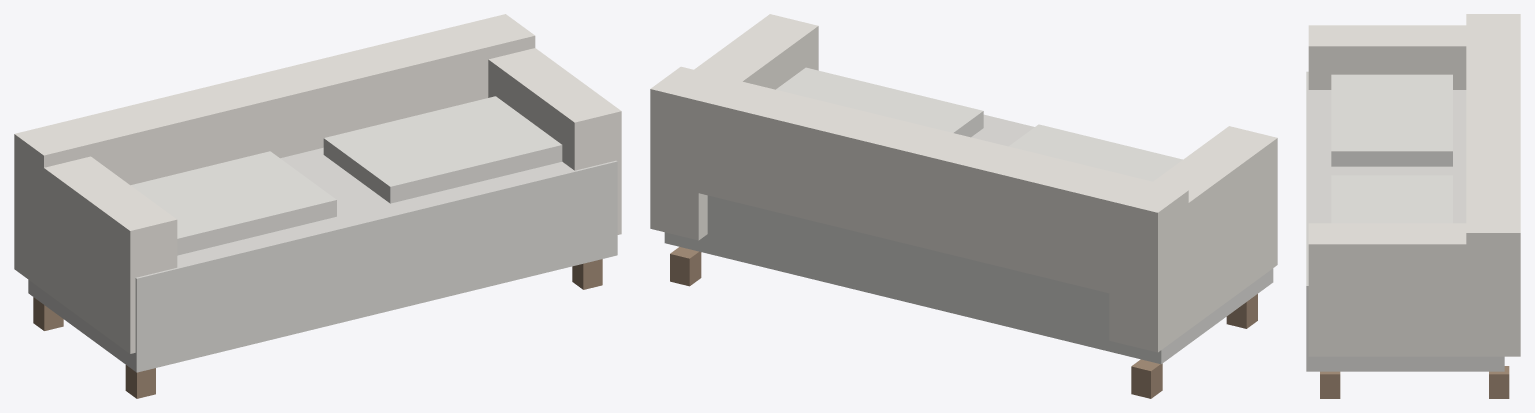
The model's file is linen-sofa.glb.
3 renders of one model, left to right at view 1: azimuth 30°, elevation 25°; view 2: azimuth 150°, elevation 25°; view 3: azimuth 270°, elevation 25°, orthographic. The views are drawn at different scales.
Parts seen in each view (by area): view 1: Linen Sofa; view 2: Linen Sofa; view 3: Linen Sofa.
Boxes of the visible parts, x1=… form: Linen Sofa: x1=14, y1=14, x2=621, y2=398; Linen Sofa: x1=650, y1=14, x2=1277, y2=398; Linen Sofa: x1=1306, y1=14, x2=1520, y2=398.
Size of the model in its own units: 2.3 by 0.84 by 0.95.
